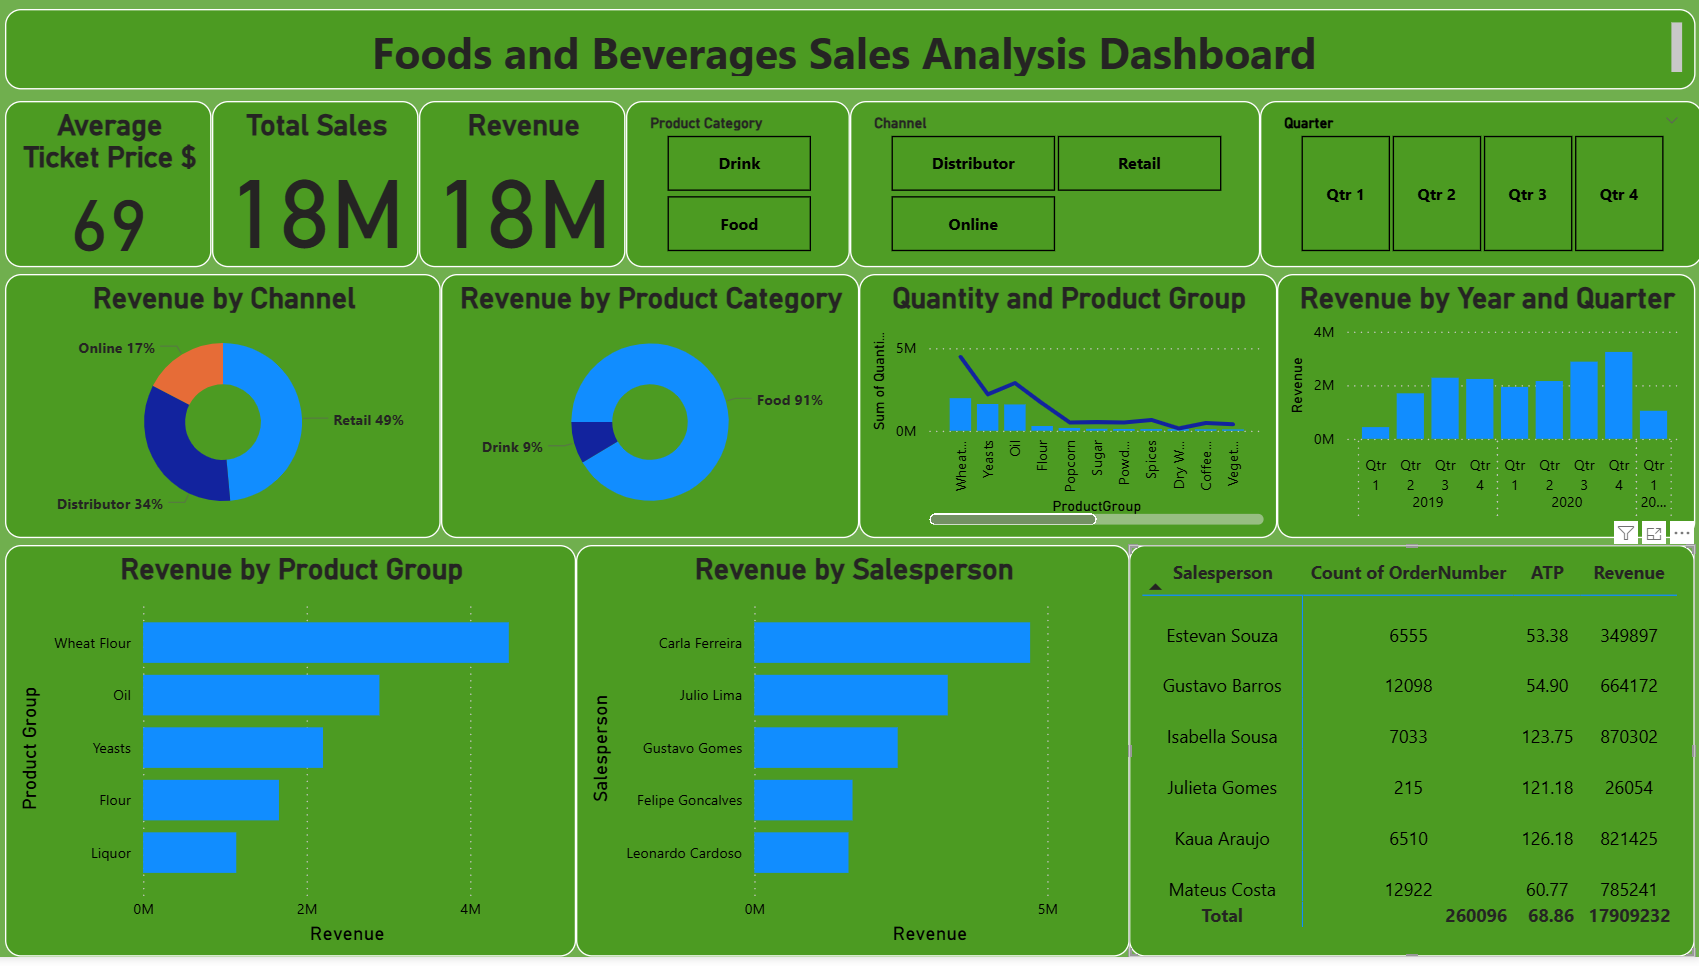

What the dashboard file says about the page in this screenshot:
{"tool":"powerbi","page":{"name":"Page 1","canvas":[1280,720],"ordinal":0},"visuals":[{"type":"card","title":"Revenue","fields":{"Values":["Sheet1.Revenue"]},"box":[323,81.3,154.4,123.8],"z":0},{"type":"card","title":"Average Ticket Price $","fields":{"Values":["Sheet1.ATP"]},"box":[14.2,81.3,154.4,123.8],"z":1000},{"type":"card","title":"Total Sales","fields":{"Values":["Sum(Sheet1.SalesAmt)"]},"box":[168.6,81.3,154.4,123.8],"z":2000},{"type":"donutChart","fields":{"Category":["Sheet1.Channel"],"Y":["Sheet1.Revenue"]},"box":[14.2,210.3,325.2,196.9],"z":3000},{"type":"textbox","box":[14.2,12.7,1260.6,60.4],"z":4000},{"type":"donutChart","title":"Revenue by Product Category","fields":{"Y":["Sheet1.Revenue"],"Category":["Product.ProductCategory"]},"box":[339.4,210.3,311.8,196.9],"z":5000},{"type":"lineStackedColumnComboChart","title":"Revenue by Year and Quarter","fields":{"Y":["Sheet1.Revenue"],"Category":["Sheet1.OrderDate.Variation.Date Hierarchy.Year","Sheet1.OrderDate.Variation.Date Hierarchy.Quarter"]},"box":[963,210.3,311.8,196.9],"z":6000},{"type":"barChart","title":"Revenue by Product Group","fields":{"Y":["Sheet1.Revenue"],"Category":["Product.ProductGroup"]},"box":[14.2,412.5,425.9,307.3],"z":7000},{"type":"lineStackedColumnComboChart","title":"Quantity and Product Group","fields":{"Y2":["Sheet1.Revenue"],"Y":["Sum(Sheet1.Quantity)"],"Category":["Product.ProductGroup"]},"box":[651.2,210.3,311.8,196.9],"z":8000},{"type":"barChart","fields":{"Category":["Sheet1.Salesperson"],"Y":["Sheet1.Revenue"]},"box":[440.1,412.5,413.2,307.3],"z":9000},{"type":"pivotTable","fields":{"Rows":["Sheet1.Salesperson"],"Values":["CountNonNull(Sheet1.OrderNumber)","Sheet1.ATP","Sheet1.Revenue"]},"box":[852.6,412.5,422.2,307.3],"z":10000},{"type":"slicer","fields":{"Values":["Product.ProductCategory"]},"box":[477.4,81.3,167.1,123.8],"z":12000},{"type":"slicer","fields":{"Values":["Sheet1.Channel"]},"box":[644.5,81.3,305.8,123.8],"z":13000},{"type":"slicer","fields":{"Values":["Sheet1.OrderDate.Variation.Date Hierarchy.Quarter"]},"box":[950.3,81.3,329.7,123.8],"z":14000}]}

Visuals, with their boxes in screenshot pixels (x1, y1, x2, y2), scaled from the page's 1280x720 canvas onto the 1699x966 screenshot:
"Revenue" card: 429:109:634:275
"Average Ticket Price $" card: 19:109:224:275
"Total Sales" card: 224:109:429:275
donutChart - Sheet1.Channel x Sheet1.Revenue: 19:282:451:546
textbox: 19:17:1692:98
"Revenue by Product Category" donutChart: 451:282:864:546
"Revenue by Year and Quarter" lineStackedColumnComboChart: 1278:282:1692:546
"Revenue by Product Group" barChart: 19:553:584:965
"Quantity and Product Group" lineStackedColumnComboChart: 864:282:1278:546
barChart - Sheet1.Salesperson x Sheet1.Revenue: 584:553:1133:965
pivotTable - Sheet1.Salesperson x CountNonNull(Sheet1.OrderNumber): 1132:553:1692:965
slicer - Product.ProductCategory: 634:109:855:275
slicer - Sheet1.Channel: 855:109:1261:275
slicer - Sheet1.OrderDate.Variation.Date Hierarchy.Quarter: 1261:109:1698:275
